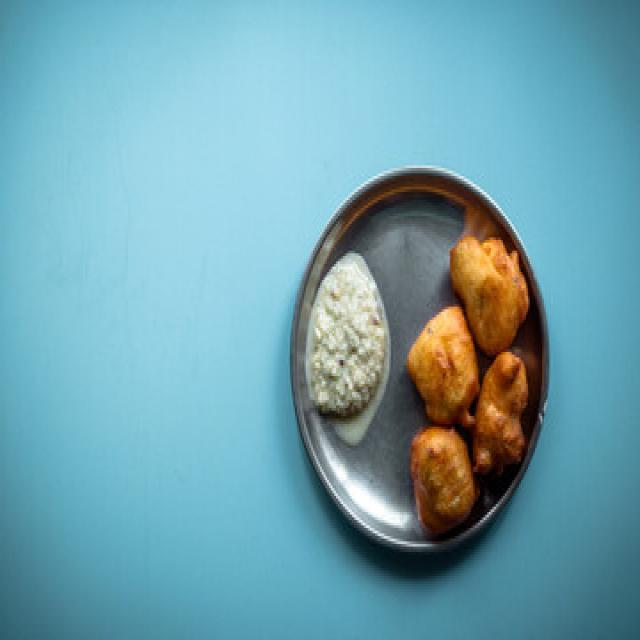BONDA: (407, 228, 530, 532)
WHITE CHUTNEY: (308, 256, 388, 440)
